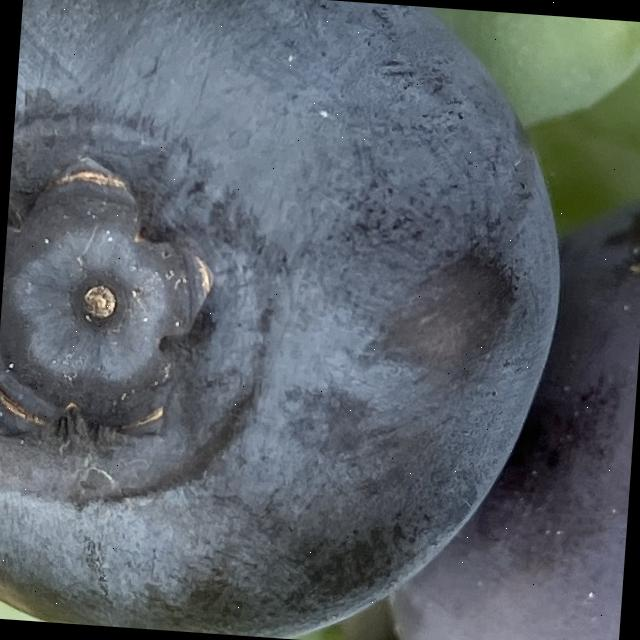Blueberries: (0, 0, 581, 640), (380, 159, 640, 640)
